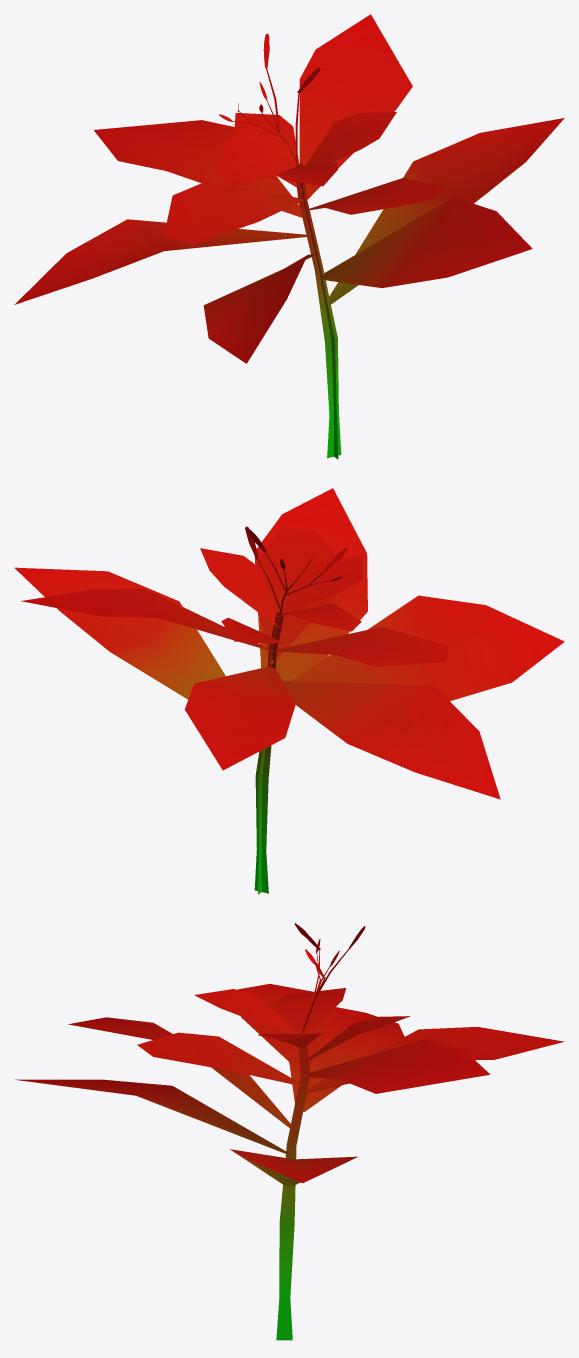
Rendered from Small Balsam_LOD3_Var2_xefmcgrqx.fbx.
The picture shows the model from 3 angles, top to bottom: view 1: azimuth 30°, elevation 25°; view 2: azimuth 150°, elevation 25°; view 3: azimuth 270°, elevation 25°; orthographic projection.
Visible parts, largest first — view 1: _9q0v_Var2_LOD3; view 2: _9q0v_Var2_LOD3; view 3: _9q0v_Var2_LOD3.
Boxes of the visible parts, x1=… form: _9q0v_Var2_LOD3: x1=14, y1=14, x2=564, y2=459; _9q0v_Var2_LOD3: x1=14, y1=488, x2=564, y2=894; _9q0v_Var2_LOD3: x1=15, y1=923, x2=564, y2=1340.
Bounding box in the file's own units: 39.16 × 28.82 × 35.88.
